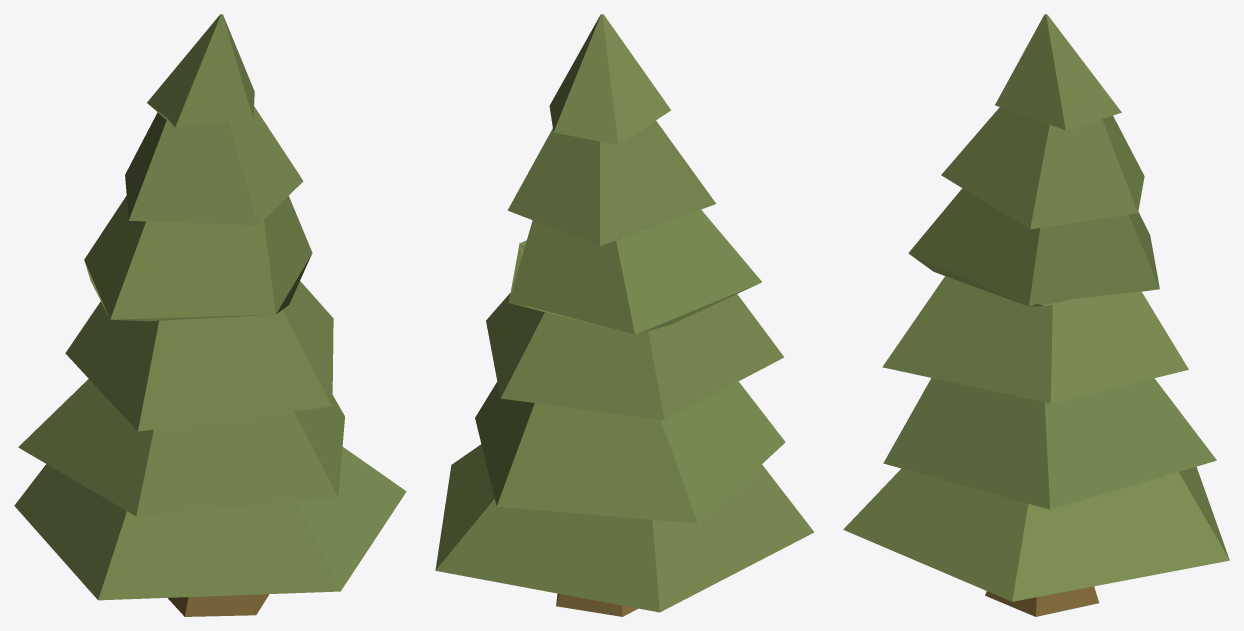
Rendered from Pine_Base.fbx.
3 renders of one model, left to right at view 1: azimuth 30°, elevation 25°; view 2: azimuth 150°, elevation 25°; view 3: azimuth 270°, elevation 25°, orthographic.
Visible parts, largest first — view 1: Cylinder.002; view 2: Cylinder.002; view 3: Cylinder.002.
Boxes of the visible parts, x1,y1,x2,y2 form: Cylinder.002: (14, 14, 406, 616); Cylinder.002: (435, 14, 814, 616); Cylinder.002: (843, 14, 1229, 616).
Bounding box in the file's own units: 159 × 261 × 158.
